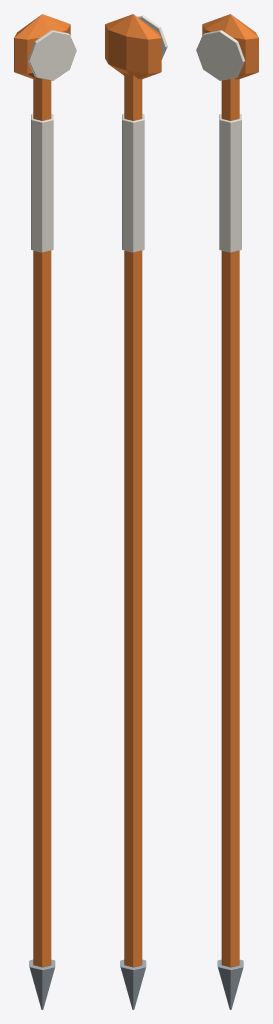
The model's file is b20_reflective_driveway_snow_marker.glb.
3 views of the same model, side by side, from view 1: azimuth 30°, elevation 25°; view 2: azimuth 150°, elevation 25°; view 3: azimuth 330°, elevation 25° (orthographic).
Parts seen in each view (by area): view 1: b20_reflective_driveway_snow_marker; view 2: b20_reflective_driveway_snow_marker; view 3: b20_reflective_driveway_snow_marker.
Boxes of the visible parts, <box> form: b20_reflective_driveway_snow_marker: <box>14,14,76,1009</box>; b20_reflective_driveway_snow_marker: <box>105,14,167,1009</box>; b20_reflective_driveway_snow_marker: <box>196,14,258,1009</box>.
Size of the model in its own units: 0.0942 by 1.6 by 0.0528.
